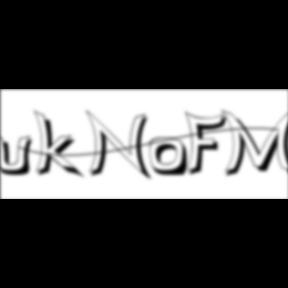F: (185, 110, 233, 178)
N: (86, 109, 156, 183)
k: (34, 108, 86, 181)
o: (149, 137, 191, 179)
u: (1, 132, 40, 178)
